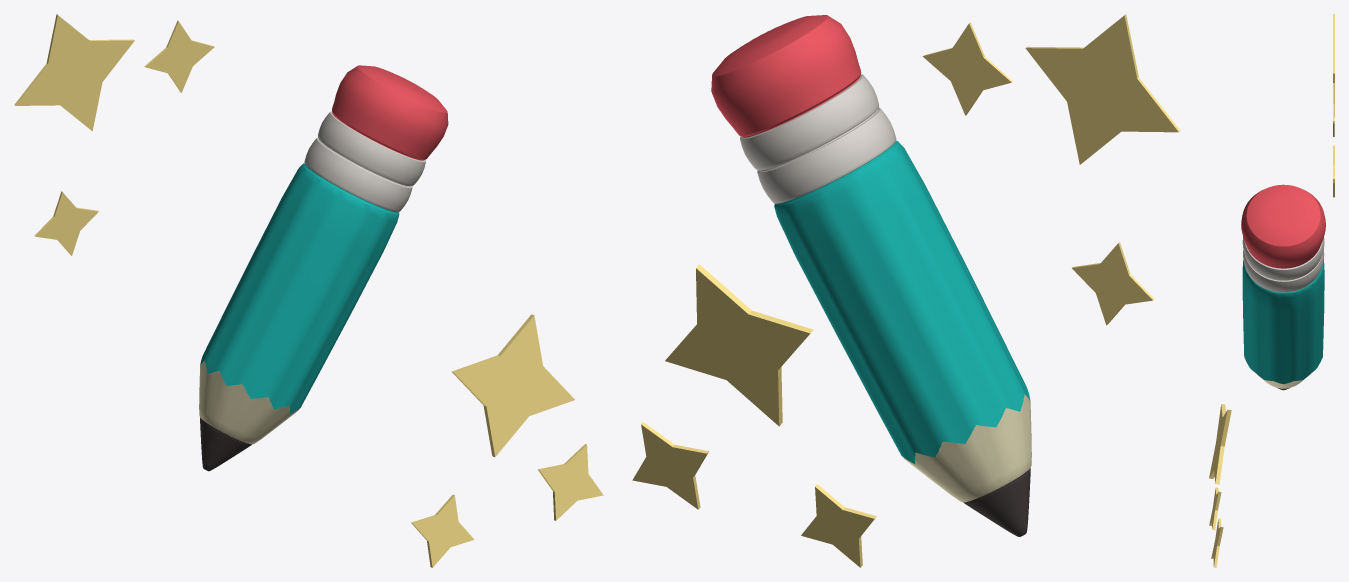
Rendered from compressed-pencil.glb.
3 views of the same model, side by side, from view 1: azimuth 30°, elevation 25°; view 2: azimuth 150°, elevation 25°; view 3: azimuth 270°, elevation 25° (orthographic). The views are drawn at different scales.
Visible parts, largest first — view 1: Cylinder, Star.003, Star, Star.004, Star.001, Star.005, Star.002; view 2: Cylinder, Star.003, Star, Star.004, Star.001, Star.005, Star.002; view 3: Cylinder, Star.003, Star.004, Star.005.
Boxes of the visible parts, <box> form: Cylinder: <box>199,65,448,471</box>; Star.003: <box>451,314,574,456</box>; Star: <box>14,14,134,130</box>; Star.004: <box>537,444,603,520</box>; Star.001: <box>144,20,214,92</box>; Star.005: <box>411,494,474,567</box>; Star.002: <box>34,191,98,255</box>; Cylinder: <box>711,15,1031,536</box>; Star.003: <box>665,264,813,426</box>; Star: <box>1025,14,1180,164</box>; Star.004: <box>632,422,708,509</box>; Star.001: <box>923,22,1012,115</box>; Star.005: <box>801,484,876,567</box>; Star.002: <box>1072,242,1154,325</box>; Cylinder: <box>1241,184,1325,390</box>; Star.003: <box>1209,404,1231,484</box>; Star.004: <box>1211,518,1223,567</box>; Star.005: <box>1209,487,1221,530</box>.
Bounding box in the file's own units: 0.6536 × 0.6933 × 0.1933.
